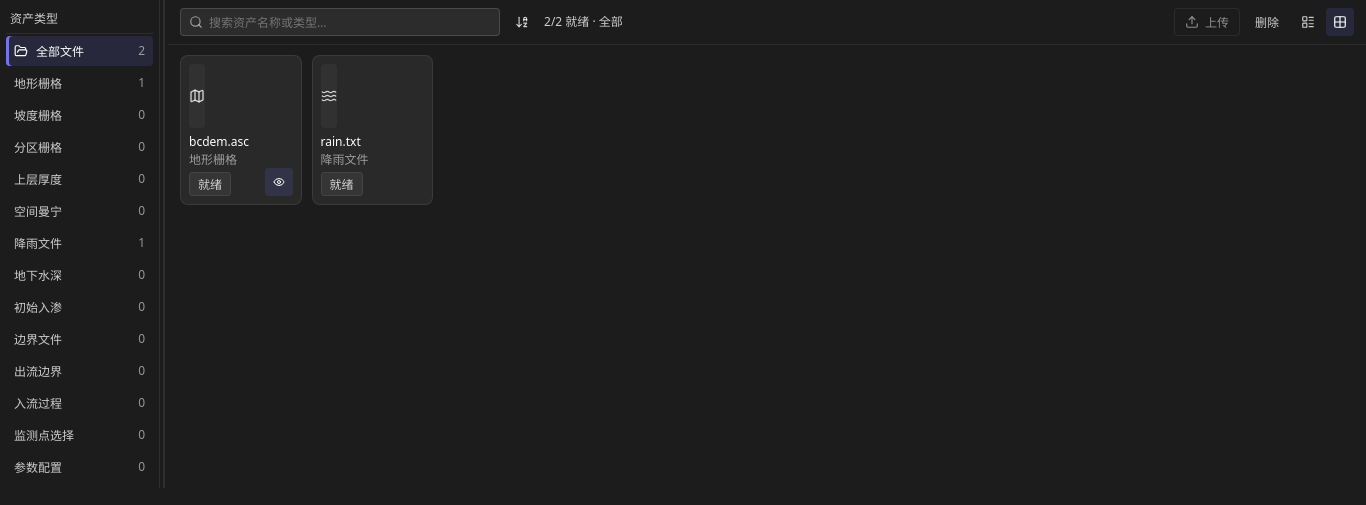
Test case: AssetContentBrowser › switches between grid and list views
Expected: the list named "项目输入资产网格" is shown, [180,55,433,205]
Click the button named "列表视图": (1308, 22) [1294,8,1322,36]
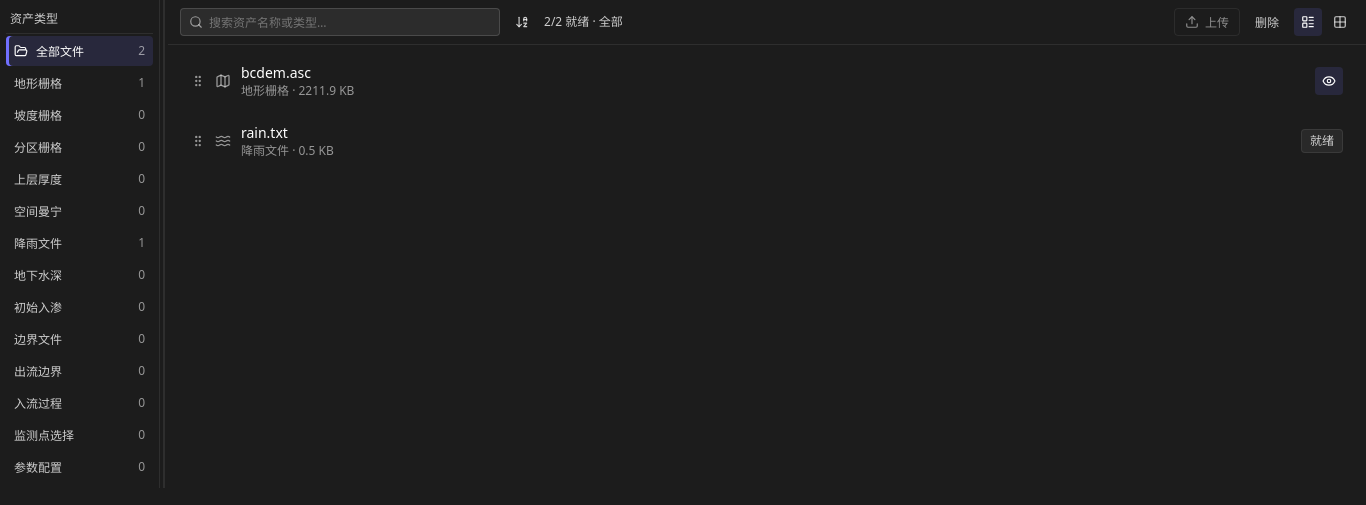
Now the list named "项目输入资产" is shown, box [180,55,1354,167]
